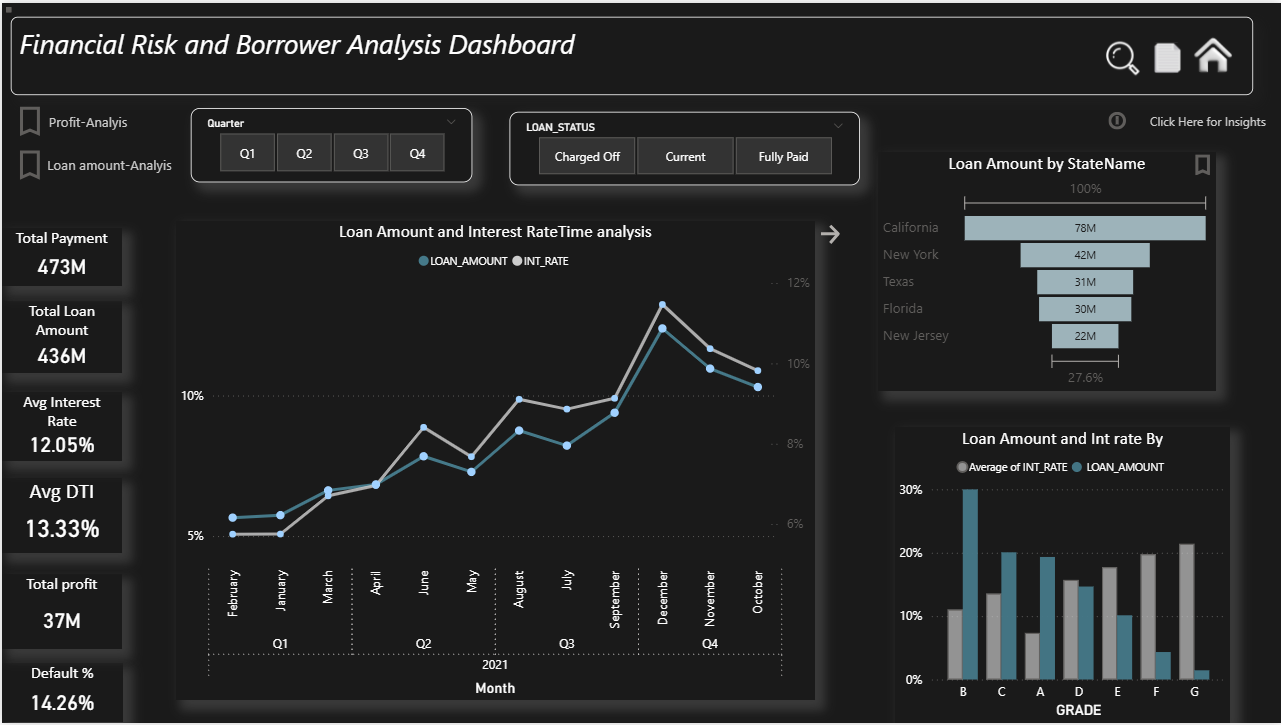

Layout of this report page (visuals, bound fields, positions):
{"tool":"powerbi","page":{"name":"Main-DASHBOARD ","canvas":[1280,720],"ordinal":1},"visuals":[{"type":"card","title":"Total Payment","fields":{"Values":["Sum(LOANS_FACT.TOTAL_PAYMENT)"]},"box":[0,225,120,58.8],"z":0},{"type":"textbox","box":[8.4,13.3,1242.6,78.4],"z":1000},{"type":"card","title":"Total Loan Amount","fields":{"Values":["Sum(LOANS_FACT.LOAN_AMOUNT)"]},"box":[0,297.5,120,72.5],"z":2000},{"type":"card","title":"Avg Interest Rate","fields":{"Values":["Avg(LOANS_FACT.INT_RATE)"]},"box":[0,388.8,120,68.8],"z":3000},{"type":"card","title":"Avg DTI","fields":{"Values":["Avg(LOANS_FACT.DTI)"]},"box":[0,475,120,75],"z":4000},{"type":"actionButton","box":[0,0,100,40],"z":5000},{"type":"slicer","fields":{"Values":["DateTable.Quarter"]},"box":[188.7,105.5,281.8,74.5],"z":6000},{"type":"lineClusteredColumnComboChart","title":"Loan Amount and Int rate By ","fields":{"Category":["LOANS_DIMENSION.GRADE"],"Y":["Avg(LOANS_FACT.INT_RATE)","Sum(LOANS_FACT.LOAN_AMOUNT)"]},"box":[892.5,423.8,336.2,296.2],"z":7000},{"type":"slicer","fields":{"Values":["LOANS_DIMENSION.LOAN_STATUS"]},"box":[507.7,109.2,350,73.2],"z":8000},{"type":"lineChart","title":"Loan Amount and Interest RateTime analysis","fields":{"Category":["DateTable.Year Hierarchy.Year","DateTable.Year Hierarchy.Quarter","DateTable.Year Hierarchy.Month"],"Y2":["Sum(LOANS_FACT.INT_RATE)"],"Y":["Sum(LOANS_FACT.LOAN_AMOUNT)"]},"box":[173.7,217.2,639.4,480.2],"z":9000},{"type":"funnel","title":"Loan Amount by StateName","fields":{"Category":["GEOGRAPHIC_DIMENSION.StateName"],"Y":["Sum(LOANS_FACT.LOAN_AMOUNT)"]},"box":[876.3,149,337.6,239.6],"z":10000},{"type":"card","title":"Total profit","fields":{"Values":["LOANS_FACT.Total_profit"]},"box":[0,571.2,120,75],"z":11000},{"type":"actionButton","box":[8.4,98.9,120.6,38.6],"z":15000},{"type":"actionButton","box":[8.7,142.7,165.1,38.5],"z":16000},{"type":"actionButton","box":[813.1,217.2,33.8,27.7],"z":17000},{"type":"actionButton","box":[1185.9,142.4,29,38.6],"z":18000},{"type":"card","title":"Default %","fields":{"Values":["LOANS_FACT.Default_Rate %"]},"box":[0,660.4,120.4,59.6],"z":19000},{"type":"actionButton","box":[1102.7,105,165.3,25.3],"z":20000},{"type":"actionButton","box":[1185.9,27.7,56.7,49.5],"z":21000},{"type":"actionButton","box":[1095.4,27.7,50.7,50.7],"z":23000},{"type":"actionButton","box":[1146.1,32.6,38.6,44.6],"z":24000}]}

Visuals, with their boxes in screenshot pixels (x1, y1, x2, y2), scaled from the page's 1280x720 canvas onto the 1281x725 screenshot:
"Total Payment" card: <bbox>0, 227, 120, 286</bbox>
textbox: <bbox>8, 13, 1252, 92</bbox>
"Total Loan Amount" card: <bbox>0, 300, 120, 373</bbox>
"Avg Interest Rate" card: <bbox>0, 392, 120, 461</bbox>
"Avg DTI" card: <bbox>0, 478, 120, 554</bbox>
actionButton: <bbox>0, 0, 100, 40</bbox>
slicer - DateTable.Quarter: <bbox>189, 106, 471, 181</bbox>
"Loan Amount and Int rate By " lineClusteredColumnComboChart: <bbox>893, 427, 1230, 724</bbox>
slicer - LOANS_DIMENSION.LOAN_STATUS: <bbox>508, 110, 858, 184</bbox>
"Loan Amount and Interest RateTime analysis" lineChart: <bbox>174, 219, 814, 702</bbox>
"Loan Amount by StateName" funnel: <bbox>877, 150, 1215, 391</bbox>
"Total profit" card: <bbox>0, 575, 120, 651</bbox>
actionButton: <bbox>8, 100, 129, 138</bbox>
actionButton: <bbox>9, 144, 174, 182</bbox>
actionButton: <bbox>814, 219, 848, 247</bbox>
actionButton: <bbox>1187, 143, 1216, 182</bbox>
"Default %" card: <bbox>0, 665, 120, 724</bbox>
actionButton: <bbox>1104, 106, 1269, 131</bbox>
actionButton: <bbox>1187, 28, 1244, 78</bbox>
actionButton: <bbox>1096, 28, 1147, 79</bbox>
actionButton: <bbox>1147, 33, 1186, 78</bbox>
